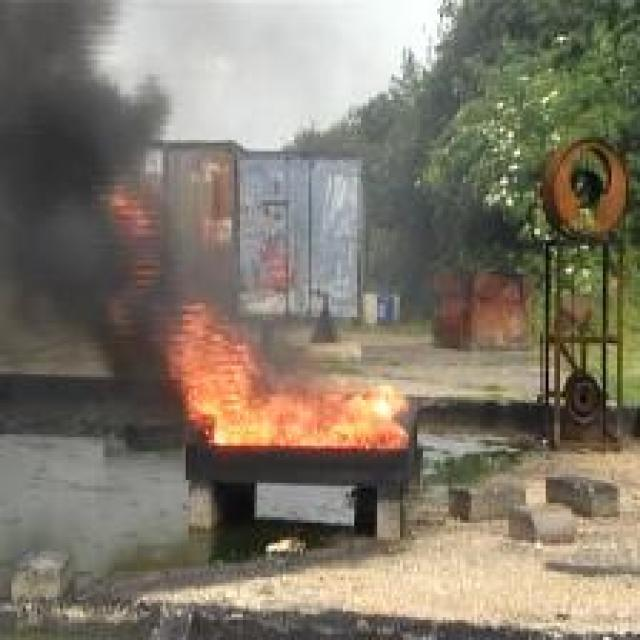Fire: (110, 194, 410, 452)
